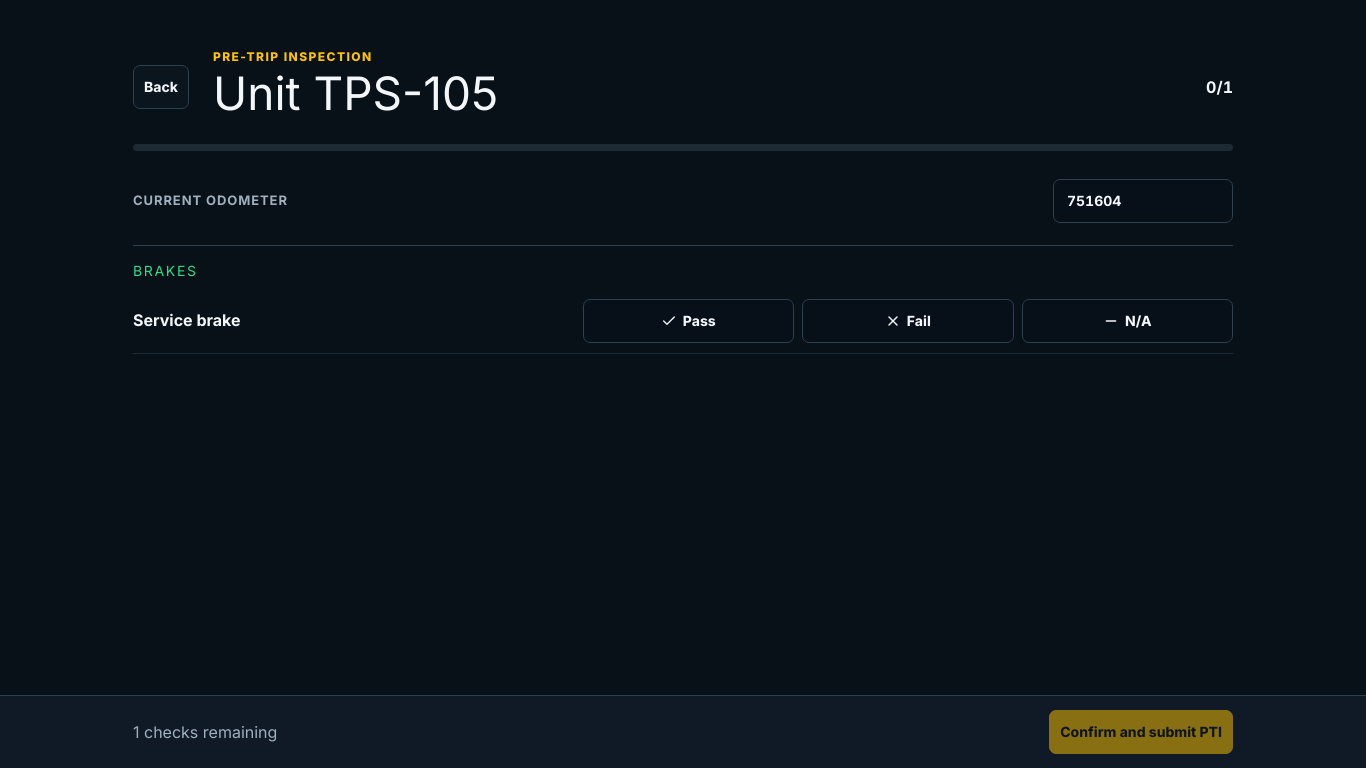
Test case: Driver Workspace shape and hardening › requires a condition note for a failed PTI check
Click the button "Fail" at (908, 321), box [802,299,1014,343]
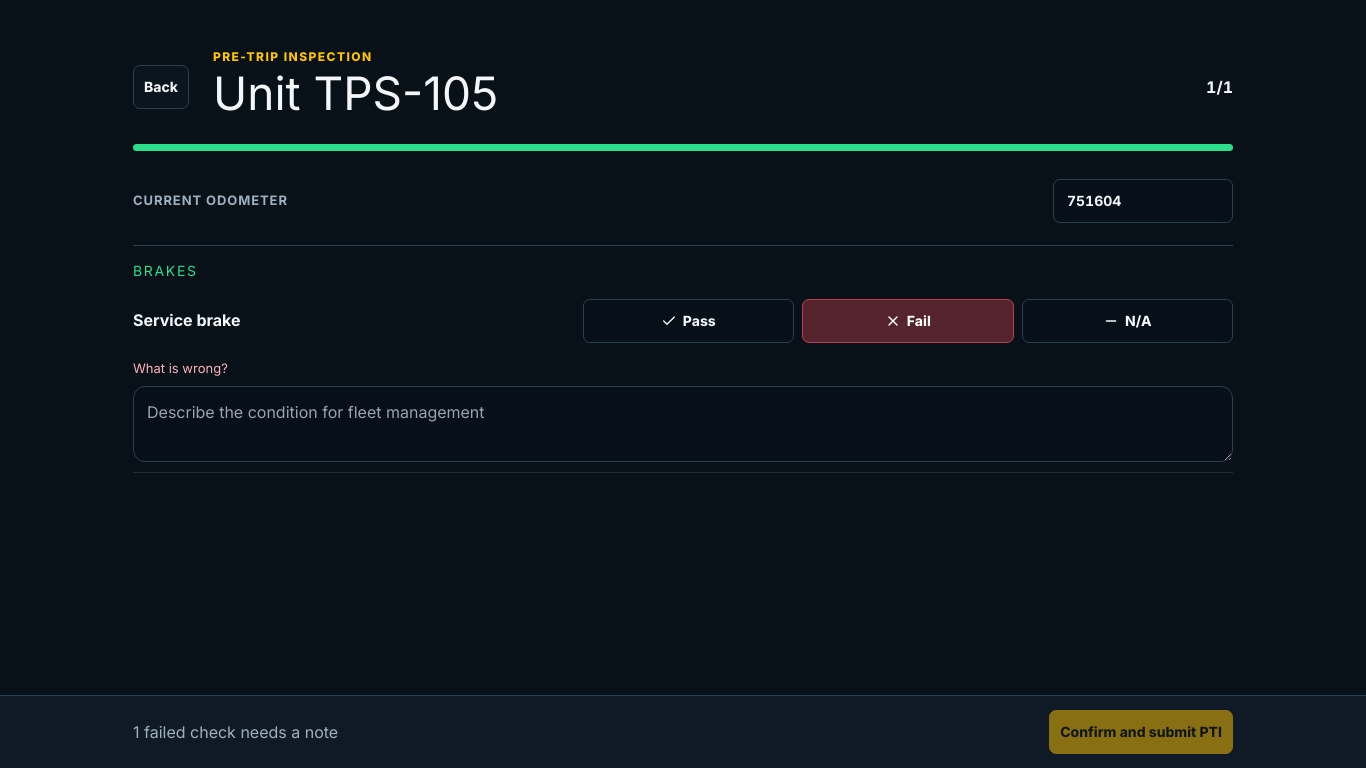
Expected: the button "Confirm and submit PTI" is disabled, [1049,710,1233,754]
Expected: the text box labelled "What is wrong?" is shown
Type "Air pressure drops during hold test" into the text box labelled "What is wrong?" at (683, 424), box [133,386,1233,462]
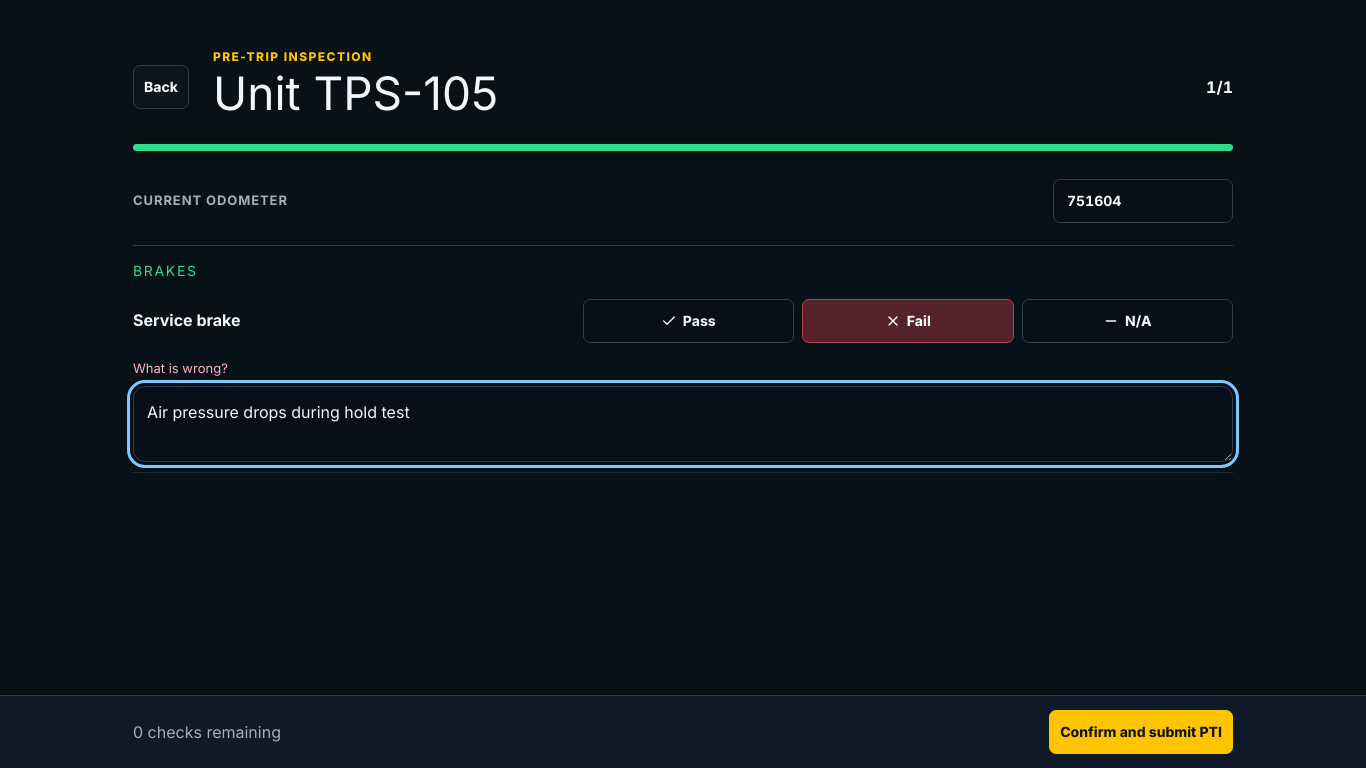
Expected: the button "Confirm and submit PTI" is enabled, [1049,710,1233,754]
